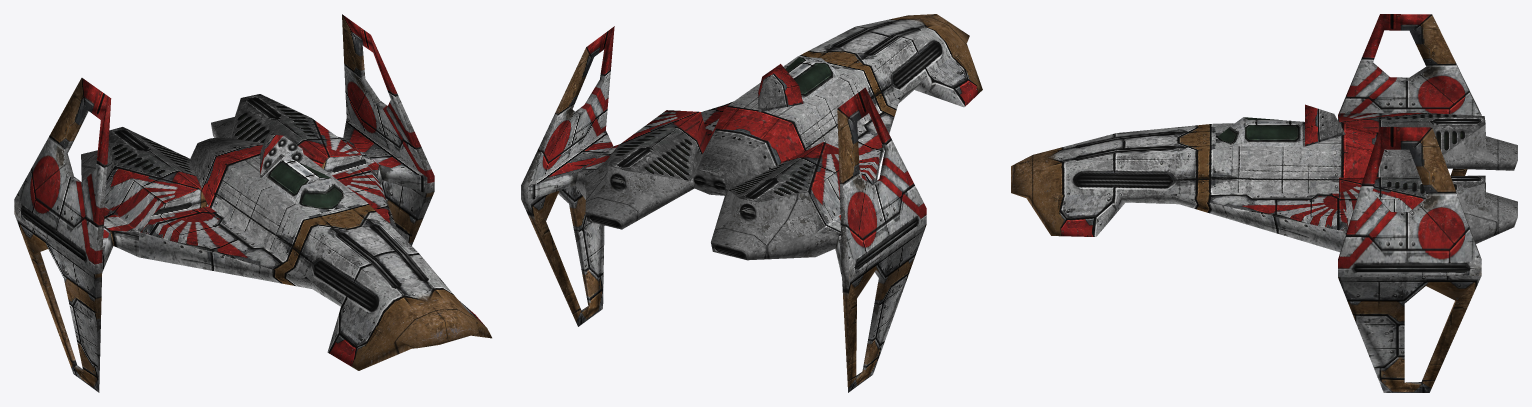
File: naginata.glb
3 views of the same model, side by side, from view 1: azimuth 30°, elevation 25°; view 2: azimuth 150°, elevation 25°; view 3: azimuth 270°, elevation 25° (orthographic). The views are drawn at different scales.
Visible parts, largest first — view 1: Naginata Body, Naginata c-pit; view 2: Naginata Body, Naginata c-pit; view 3: Naginata Body, Naginata c-pit.
Boxes of the visible parts, x1,y1,x2,y2 form: Naginata Body: [14, 14, 491, 392]; Naginata c-pit: [226, 134, 366, 217]; Naginata Body: [521, 14, 982, 392]; Naginata c-pit: [726, 56, 860, 123]; Naginata Body: [1011, 14, 1517, 392]; Naginata c-pit: [1215, 104, 1345, 152].
Bounding box in the file's own units: 642 × 531 × 932.
Materials: 3 (3 with a texture image).
